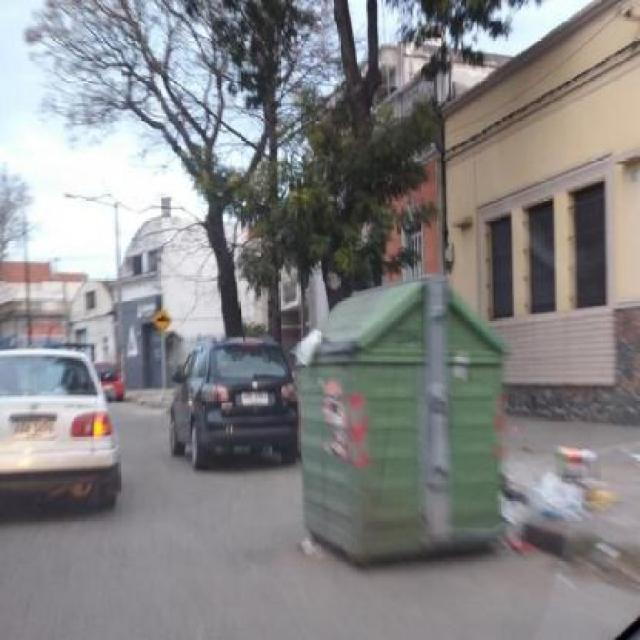garbage: (503, 407, 629, 626)
